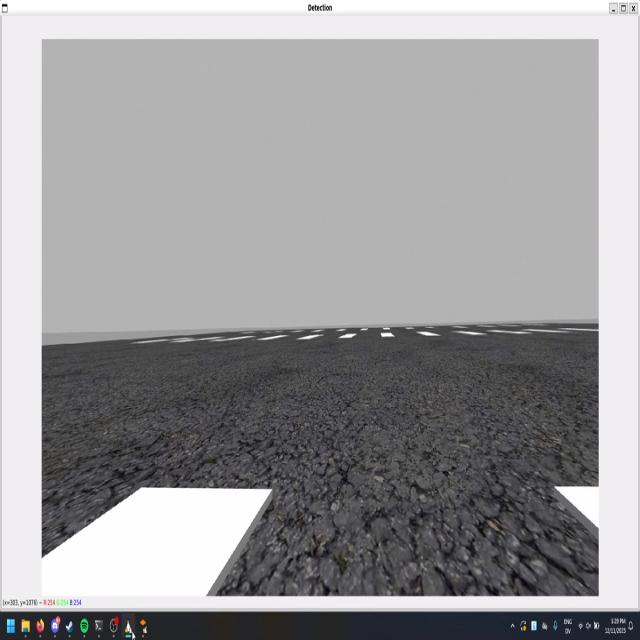crosswalk: (42, 485, 598, 596), (133, 327, 597, 345)
